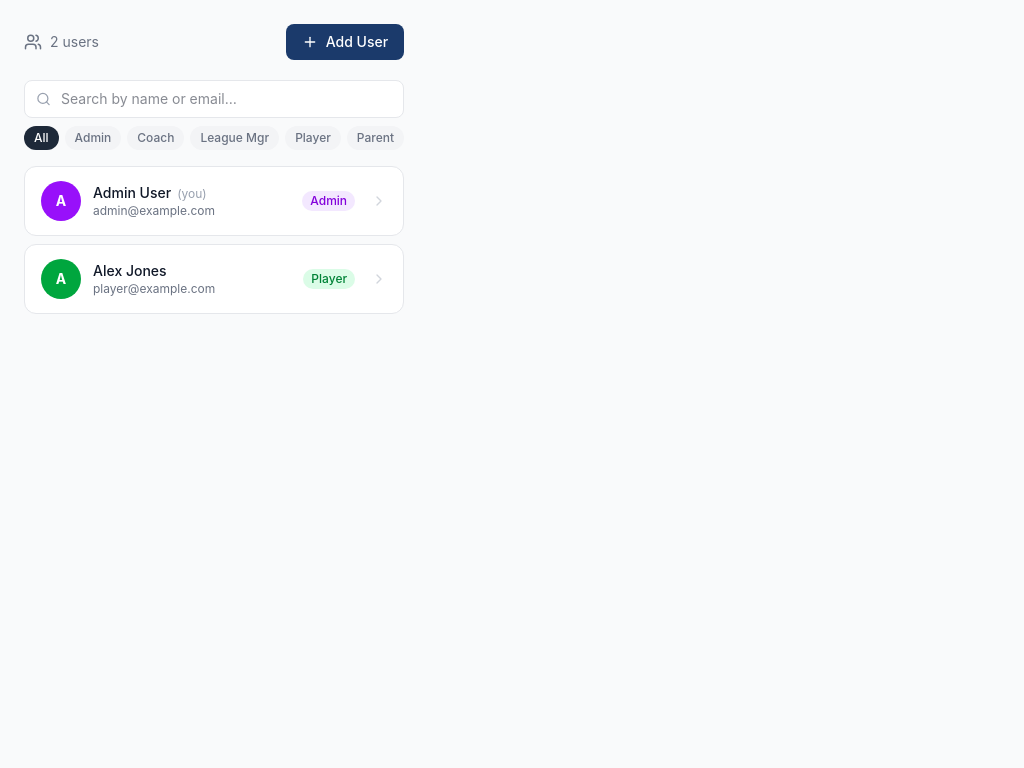
Test: UsersPage — reset password button › shows a success toast after the email is sent
This screenshot has width=1024, height=768.
Expected: the text "Alex Jones" is shown, [93,262,167,279]
Click the button "A Alex Jones player@example.com Player".
click(214, 279)  # box [24,244,404,314]
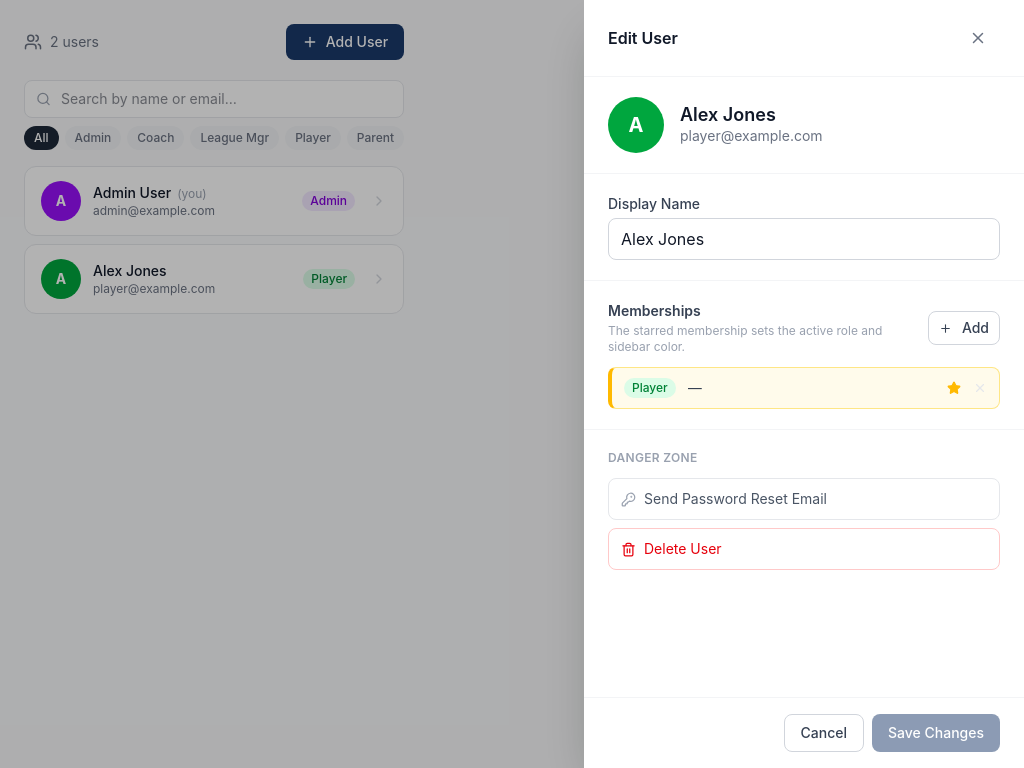
Click the button "Send Password Reset Email".
click(804, 499)  # box [608,478,1000,520]
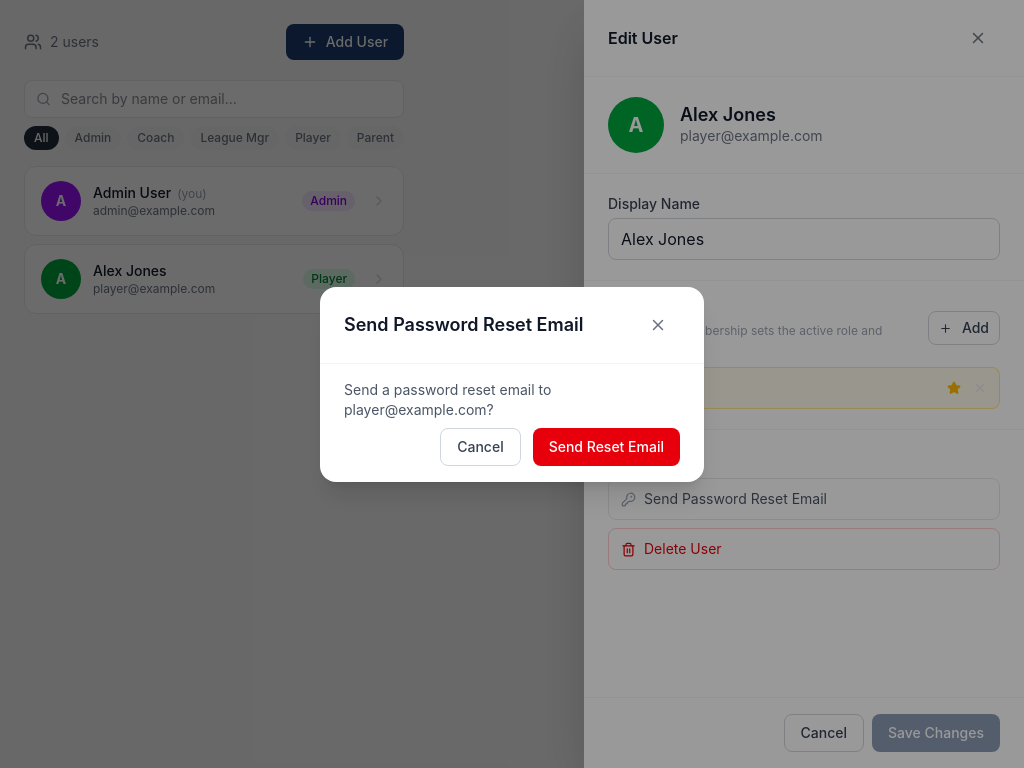
Click the button "Send Reset Email".
click(606, 446)  # box [533,428,680,466]
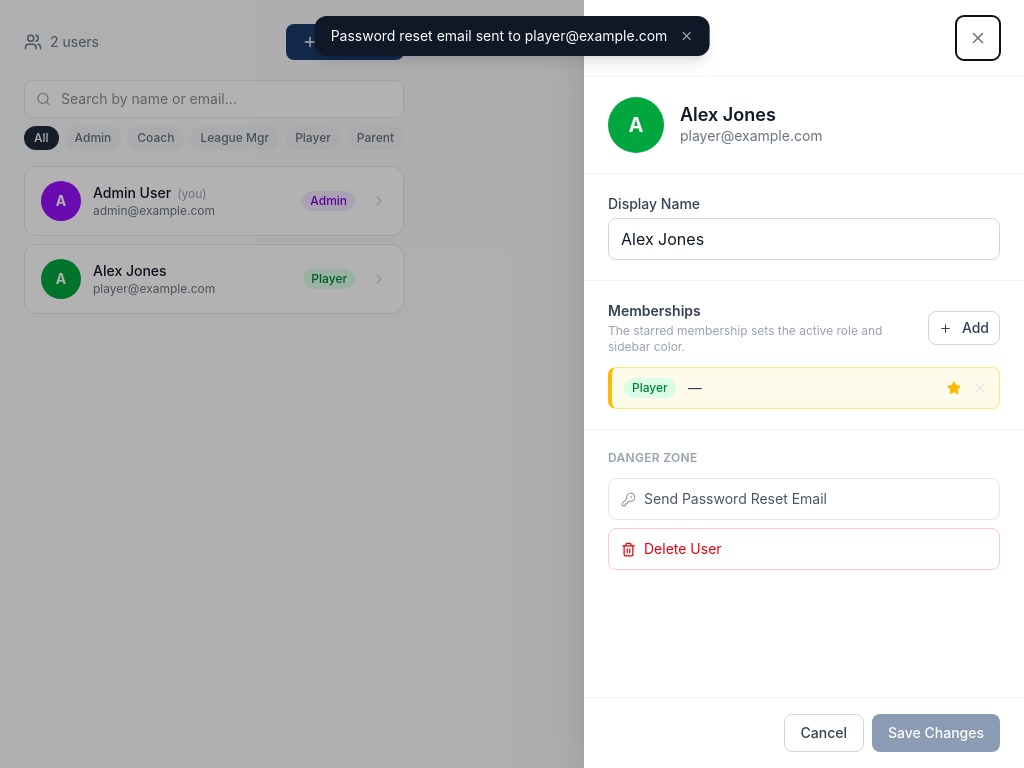
Expected: the message "Password reset email sent to player@example.com" is shown, [315,16,709,56]
Expected: the message reads "Password reset email sent to player@example.com", [331,27,667,44]
